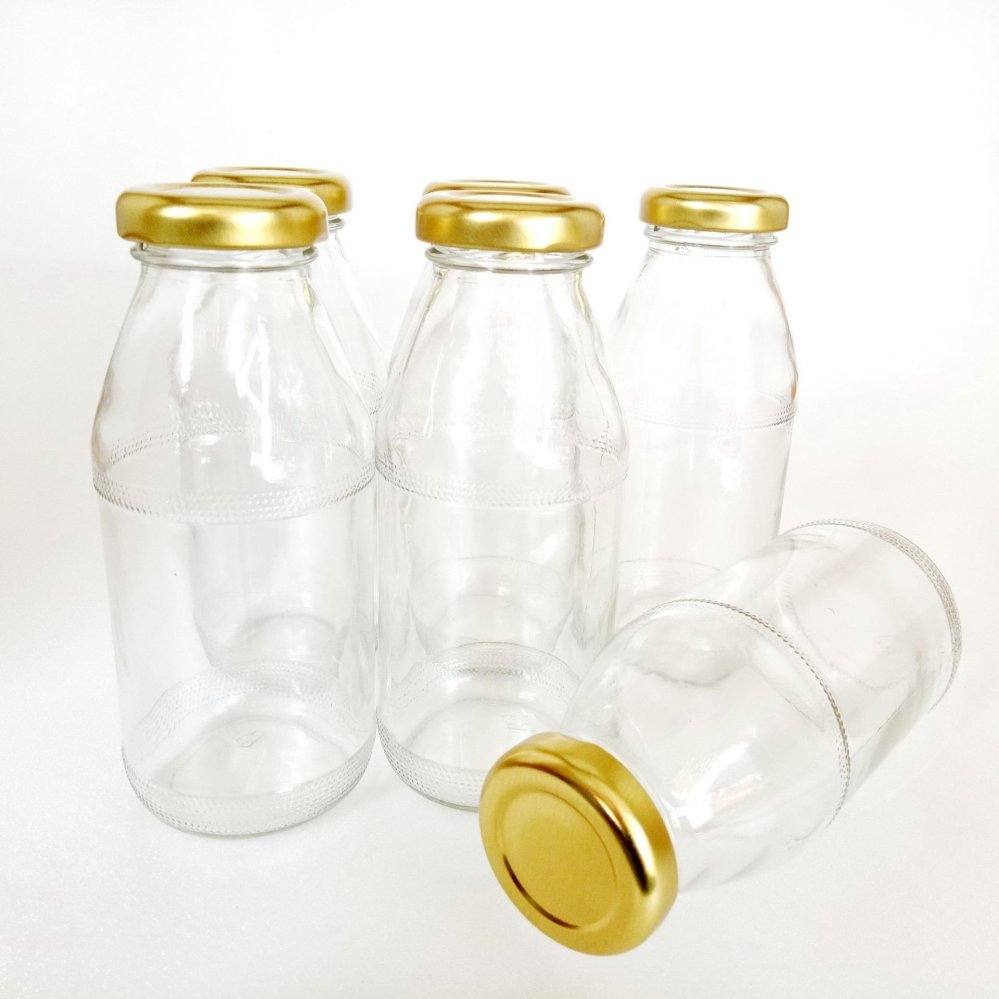glass_bottle: (73, 126, 981, 969)
